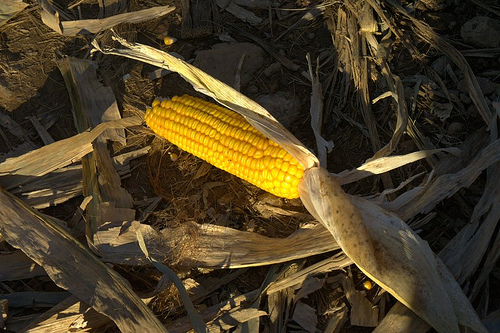corn: (141, 90, 318, 201)
